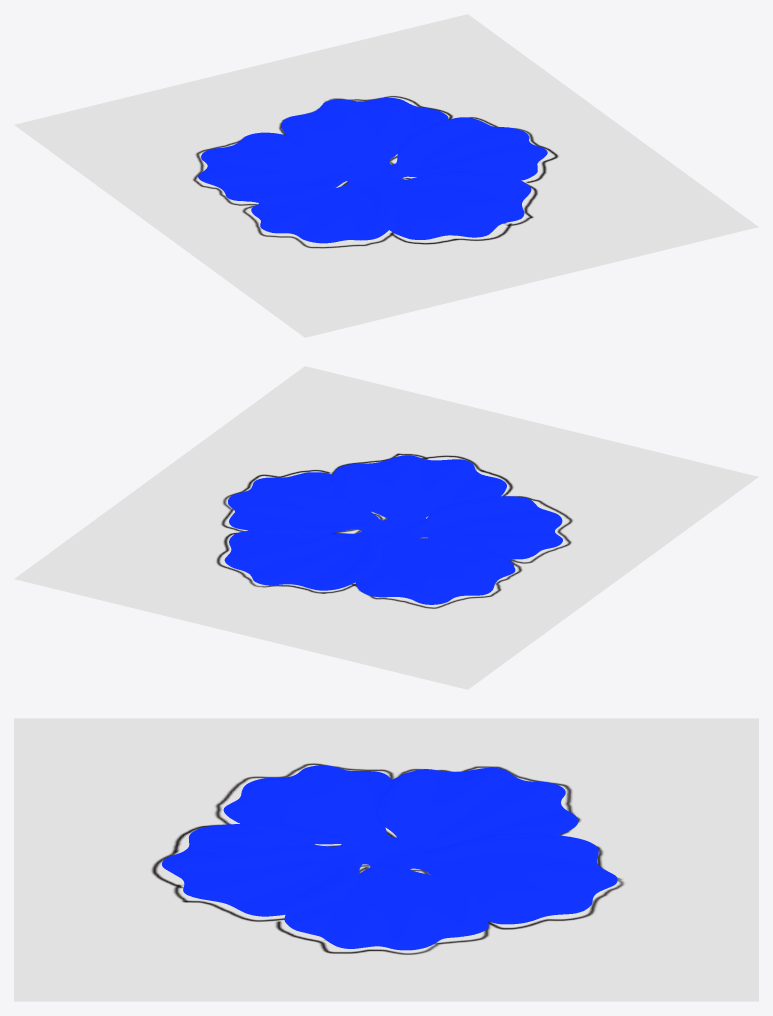
The model's file is 花  带动作.FBX.
3 views of the same model, one above another, from view 1: azimuth 30°, elevation 25°; view 2: azimuth 150°, elevation 25°; view 3: azimuth 270°, elevation 25° (orthographic). The views are drawn at different scales.
Visible parts, largest first — view 1: Plane001, mmGroup0; view 2: Plane001, mmGroup0; view 3: Plane001, mmGroup0.
Boxes of the visible parts, x1,y1,x2,y2 form: Plane001: (14,14,758,337); mmGroup0: (198,98,547,243); Plane001: (14,366,758,689); mmGroup0: (224,455,562,604); Plane001: (14,718,758,1001); mmGroup0: (162,765,617,950).
Size of what is drawn, in the model's own units: 222 by 1.45 by 247.
